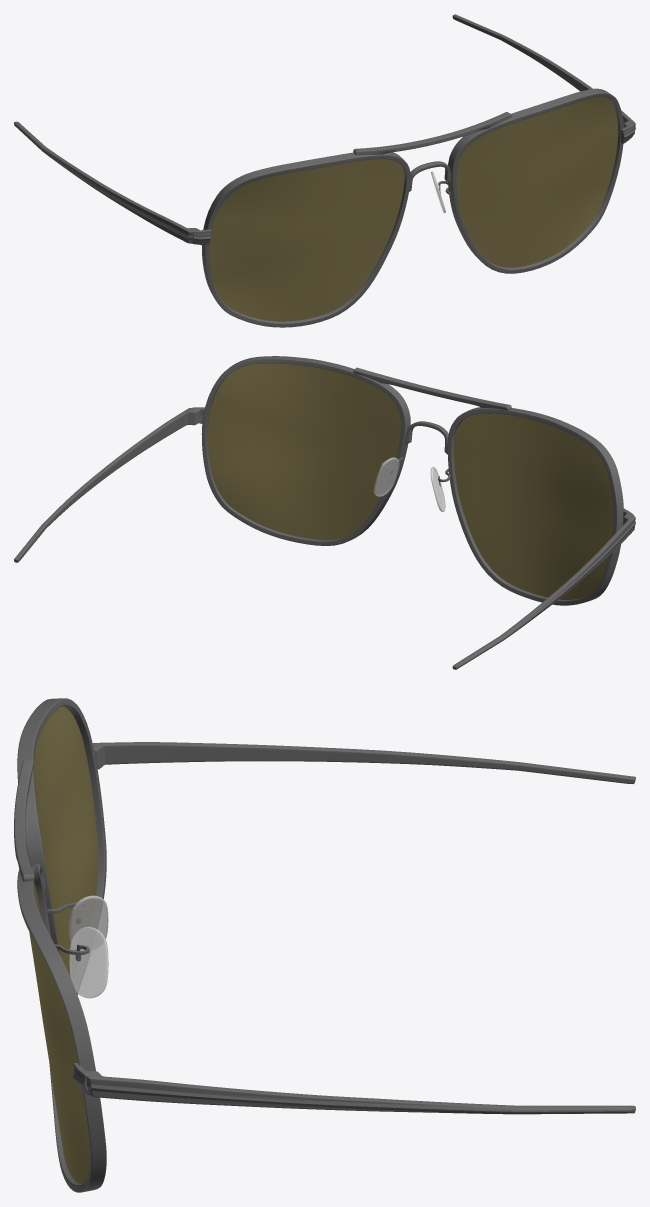
Rendered from chromance_APP_10072020.glb.
The picture shows the model from 3 angles, top to bottom: view 1: azimuth 30°, elevation 25°; view 2: azimuth 150°, elevation 25°; view 3: azimuth 270°, elevation 25°; orthographic projection. The views are drawn at different scales.
Visible parts, largest first — view 1: lentes, armacao; view 2: lentes, armacao, ponte; view 3: armacao, lentes, ponte.
Part boxes in pixels (x1=…): lentes: x1=209, y1=97, x2=618, y2=321; armacao: x1=14, y1=14, x2=635, y2=327; lentes: x1=207, y1=363, x2=613, y2=599; armacao: x1=14, y1=356, x2=635, y2=669; ponte: x1=373, y1=457, x2=445, y2=512; armacao: x1=14, y1=698, x2=635, y2=1192; lentes: x1=29, y1=706, x2=98, y2=1184; ponte: x1=69, y1=895, x2=108, y2=998.
Size of the model in its own units: 0.1573 by 0.0556 by 0.1173.
